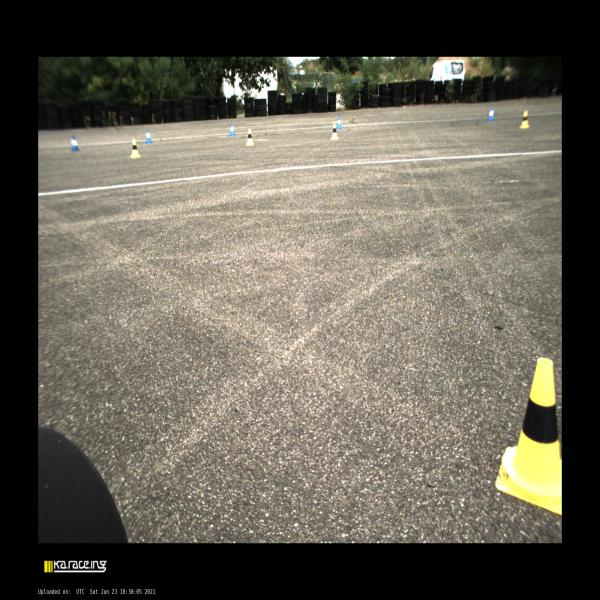blue_cone: (71, 136, 80, 152), (145, 129, 152, 143), (336, 116, 343, 129), (488, 107, 494, 121), (229, 123, 235, 136)
yellow_cone: (495, 358, 562, 515), (130, 139, 141, 158), (520, 111, 530, 128), (246, 128, 254, 146), (331, 122, 339, 140)
